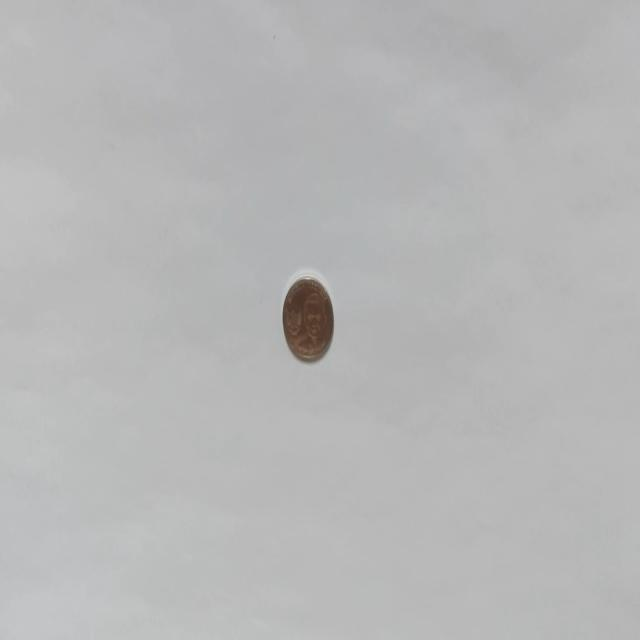seribu rupiah koin: (281, 270, 334, 363)
